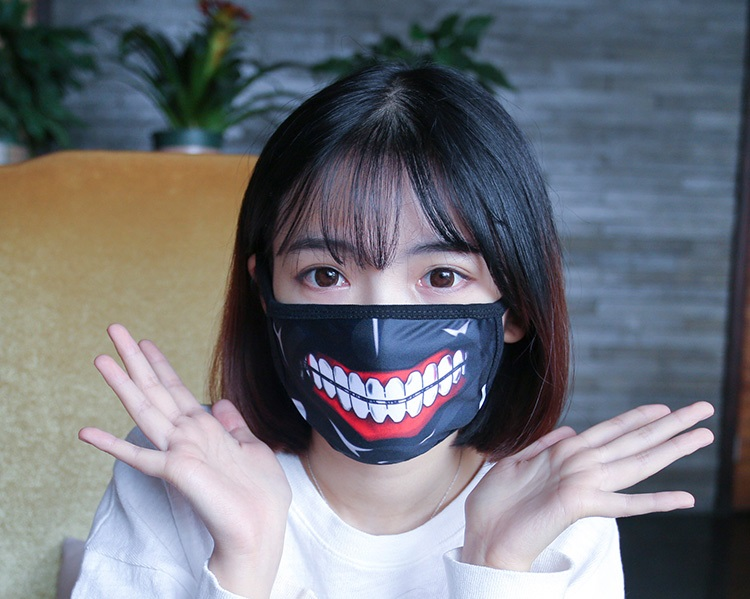face_mask: (273, 225, 500, 466)
